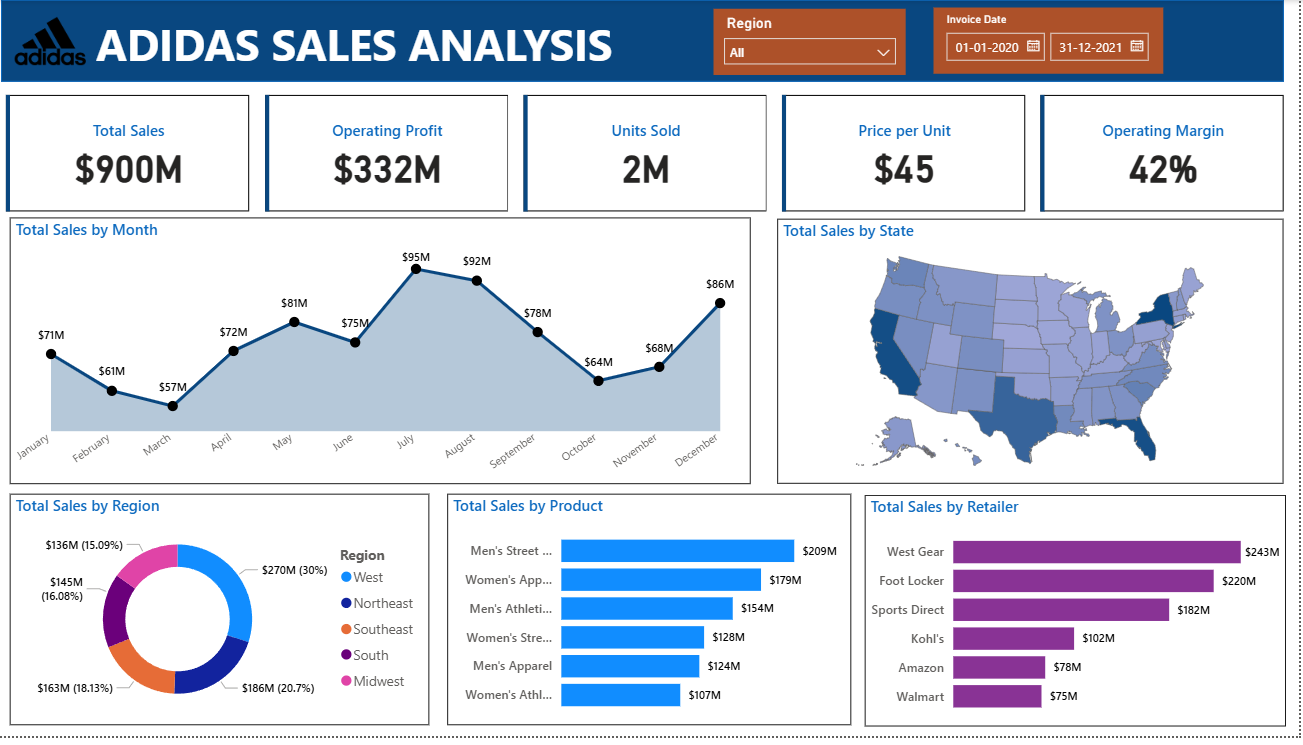

The dashboard page shown, as its layout file describes it:
{"tool":"powerbi","page":{"name":"Page 1","canvas":[1280,720],"ordinal":0},"visuals":[{"type":"shape","box":[10,0,1255,80],"z":0},{"type":"textbox","box":[97.8,8.6,587,74.6],"z":1000},{"type":"cardVisual","fields":{"Data":["Sum(Data Sales Adidas.Total Sales)","Sum(Data Sales Adidas.Operating Profit)","Sum(Data Sales Adidas.Units Sold)","Avg(Data Sales Adidas.Price per Unit)","Avg(Data Sales Adidas.Operating Margin)"]},"box":[9.8,88,1263.2,124.7],"z":2000},{"type":"areaChart","title":" Total Sales by Month","fields":{"Category":["Data Sales Adidas.Invoice Date.Variation.Date Hierarchy.Month"],"Y":["Sum(Data Sales Adidas.Total Sales)"]},"box":[18.3,212.8,725.1,260.5],"z":3000},{"type":"shapeMap","fields":{"Category":["Data Sales Adidas.State"],"Value":["Sum(Data Sales Adidas.Total Sales)"]},"box":[769.2,214,495.2,259.2],"z":4000},{"type":"donutChart","title":" Total Sales by Region","fields":{"Category":["Data Sales Adidas.Region"],"Y":["Sum(Data Sales Adidas.Total Sales)"]},"box":[18.3,483,410,226],"z":5000},{"type":"barChart","title":"Total Sales by Product","fields":{"Category":["Data Sales Adidas.Product"],"Y":["Sum(Data Sales Adidas.Total Sales)"]},"box":[446.3,483,395,226.2],"z":6000},{"type":"barChart","title":"Total Sales by Retailer","fields":{"Y":["Sum(Data Sales Adidas.Total Sales)"],"Category":["Data Sales Adidas.Retailer"]},"box":[854.8,484.2,412.1,226.2],"z":7000},{"type":"slicer","fields":{"Values":["Data Sales Adidas.Region"]},"box":[706.8,8.6,188.3,64.8],"z":8000},{"type":"slicer","fields":{"Values":["Data Sales Adidas.Invoice Date"]},"box":[922,7.3,225,64.8],"z":9000},{"type":"image","box":[18.3,8.6,79.5,63.6],"z":10000}]}

Visuals, with their boxes in screenshot pixels (x1, y1, x2, y2), scaled from the page's 1280x720 canvas onto the 1303x745 screenshot:
shape: 10:0:1288:83
textbox: 100:9:697:86
cardVisual - Sum(Data Sales Adidas.Total Sales) x Sum(Data Sales Adidas.Operating Profit): 10:91:1296:220
" Total Sales by Month" areaChart: 19:220:757:490
shapeMap - Data Sales Adidas.State x Sum(Data Sales Adidas.Total Sales): 783:221:1287:490
" Total Sales by Region" donutChart: 19:500:436:734
"Total Sales by Product" barChart: 454:500:856:734
"Total Sales by Retailer" barChart: 870:501:1290:735
slicer - Data Sales Adidas.Region: 720:9:911:76
slicer - Data Sales Adidas.Invoice Date: 939:8:1168:75
image: 19:9:100:75
